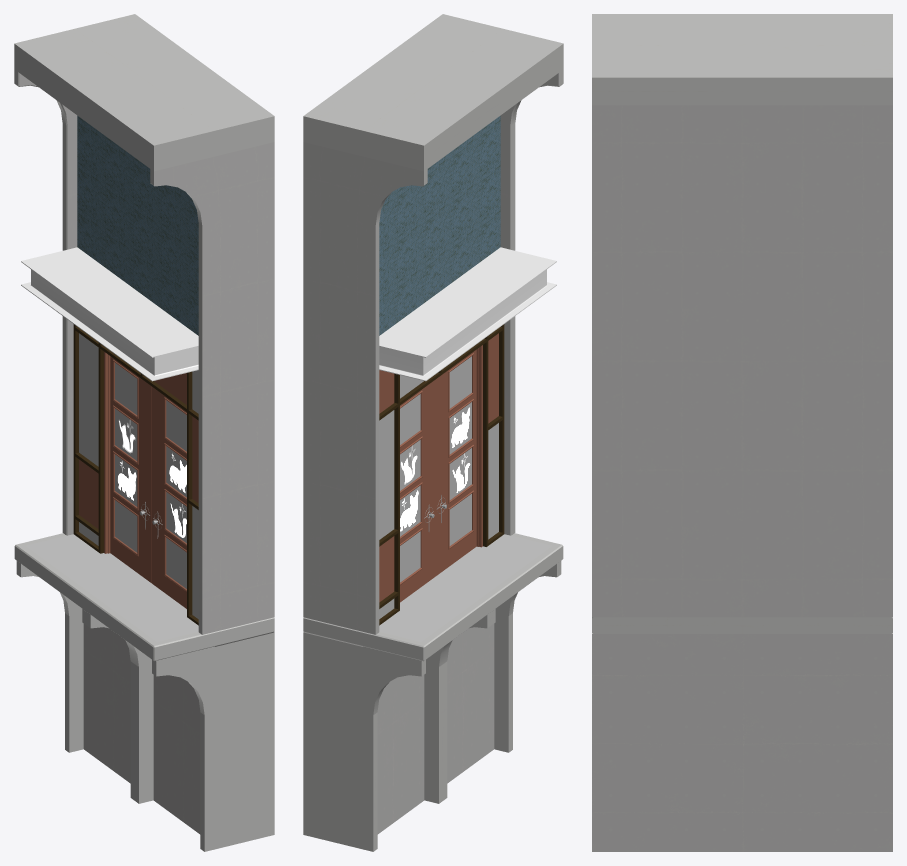
File: DoorEntrance.fbx
The picture shows the model from 3 angles, left to right: view 1: azimuth 30°, elevation 25°; view 2: azimuth 150°, elevation 25°; view 3: azimuth 270°, elevation 25°; orthographic projection. The views are drawn at different scales.
Visible parts, largest first — view 1: WallEntrance, Floor, InfillTile, Canopy, DoorLeft, DoorRight, WindowFrames, InfillWood; view 2: WallEntrance, Floor, InfillTile, Canopy, DoorRight, DoorLeft, WindowFrames, InfillWood; view 3: WallEntrance, Floor.
Part boxes in pixels (x1,y1,x2,y2): WallEntrance: (14, 14, 274, 634); Floor: (14, 533, 274, 851); InfillTile: (77, 115, 198, 335); Canopy: (21, 247, 198, 381); DoorLeft: (110, 356, 151, 583); DoorRight: (152, 387, 186, 608); WindowFrames: (73, 324, 198, 625); InfillWood: (79, 333, 198, 618); WallEntrance: (303, 14, 563, 634); Floor: (303, 533, 563, 851); InfillTile: (379, 115, 500, 335); Canopy: (379, 247, 556, 381); DoorRight: (435, 349, 476, 576); DoorLeft: (400, 380, 434, 602); WindowFrames: (379, 324, 504, 625); InfillWood: (379, 333, 498, 618); WallEntrance: (592, 14, 892, 617); Floor: (592, 617, 892, 851).
Bounding box in the file's own units: 2.5 × 14.2 × 5.
